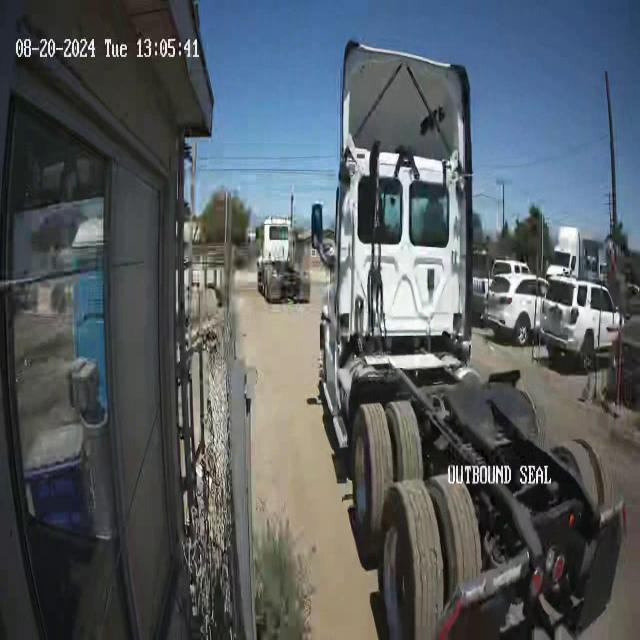BOBTAIL: (310, 39, 626, 637), (255, 190, 311, 303)
